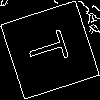T: (25, 25, 78, 69)
